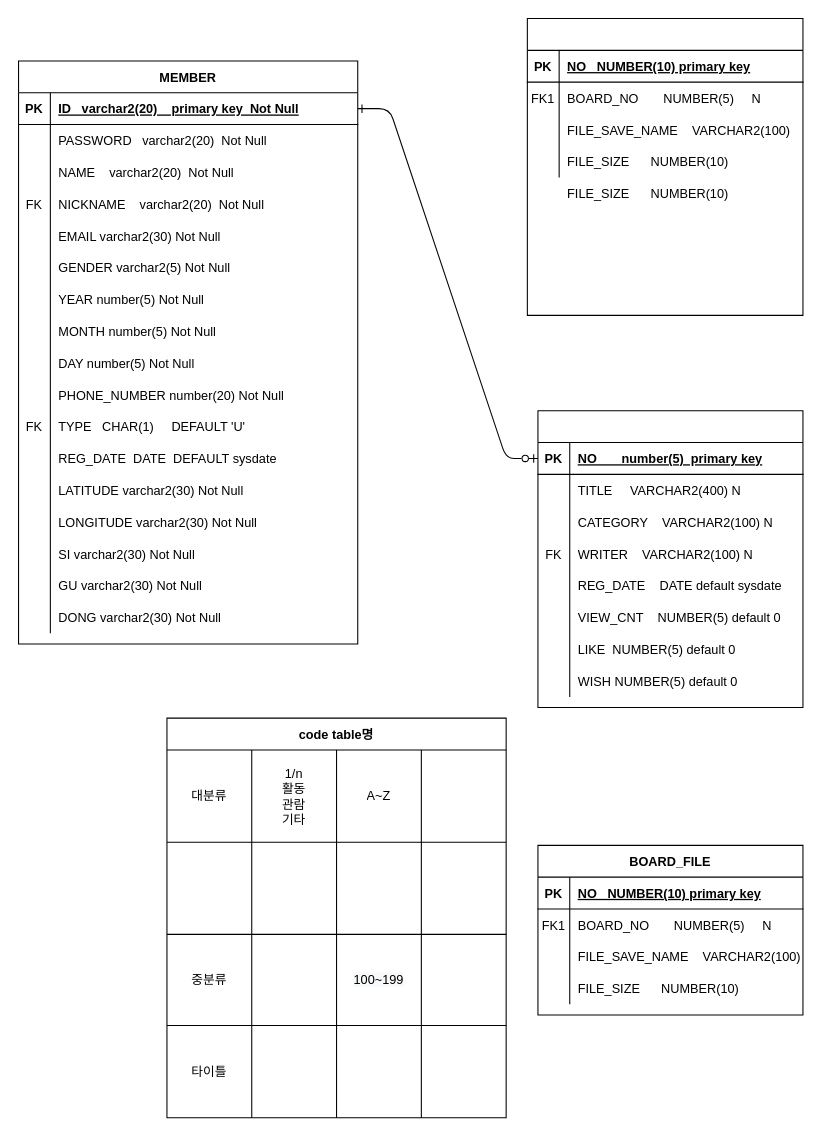
Image size: 821x1136. Some labels were removed from this diagram. The box of each missing label's shape, as (x1, y1, x2, y2) in pixels:
BOARD: (537, 410, 803, 708)
CATEGORY: (526, 17, 803, 315)
